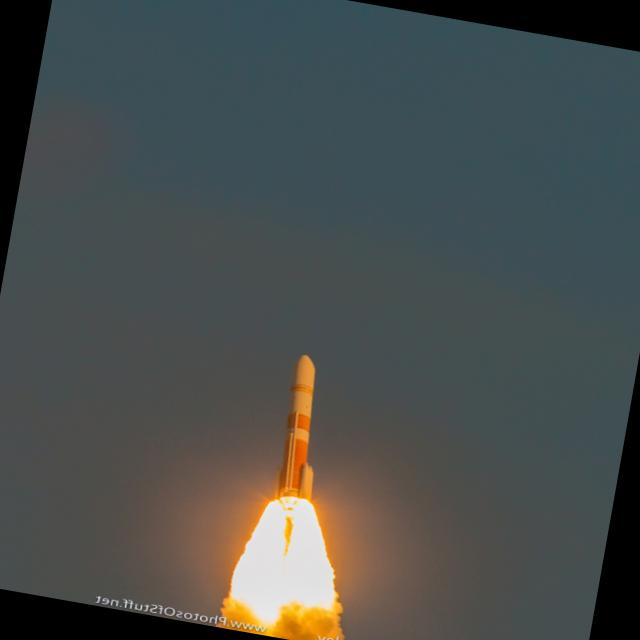rocket: (232, 344, 360, 633)
